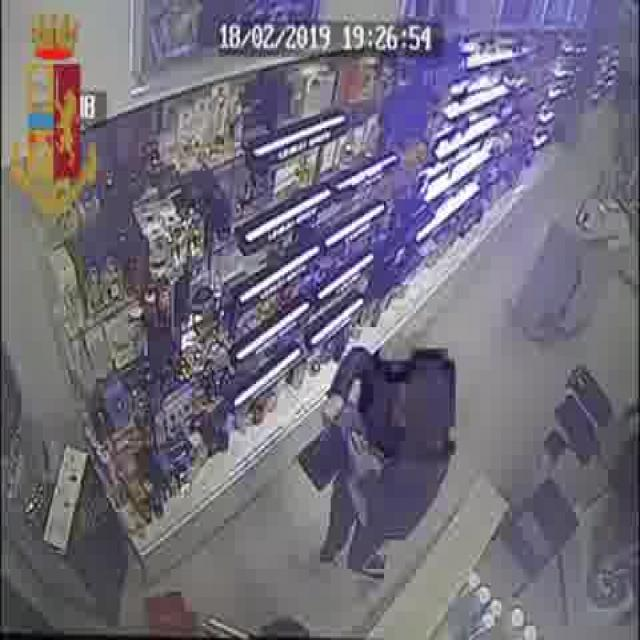persone: (294, 334, 463, 614)
